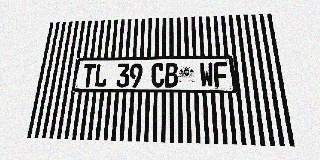3: (116, 63, 130, 87)
9: (129, 63, 143, 87)
B: (165, 63, 178, 87)
C: (151, 63, 164, 87)
F: (213, 62, 229, 87)
L: (94, 64, 108, 87)
T: (81, 64, 96, 87)
W: (199, 62, 214, 87)
